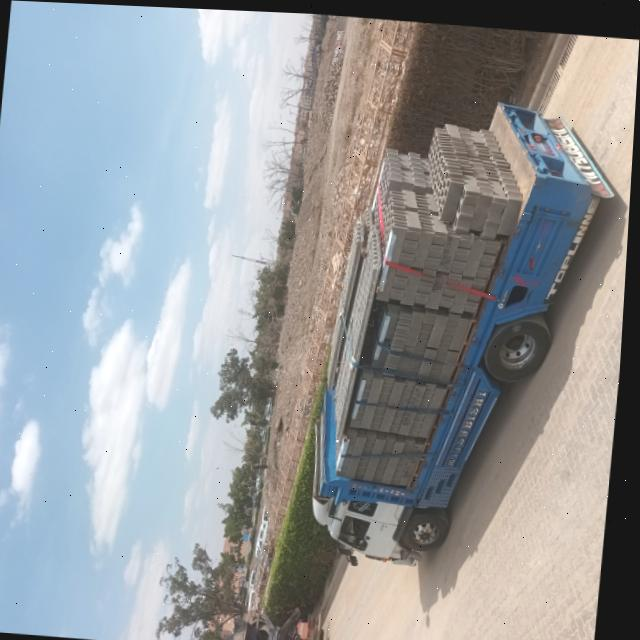bricks: (337, 125, 522, 498)
